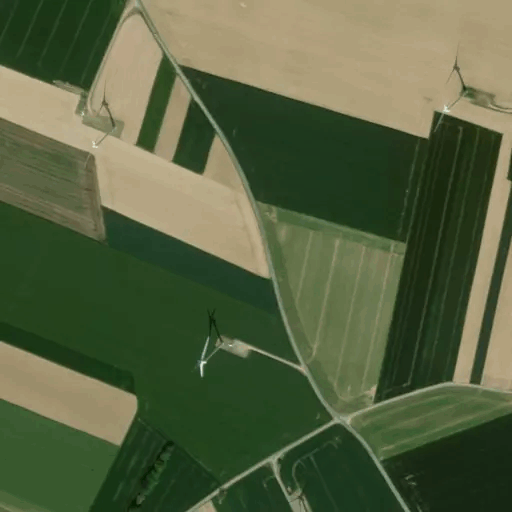wt: (78, 77, 129, 174), (428, 40, 477, 134), (186, 306, 232, 382)
